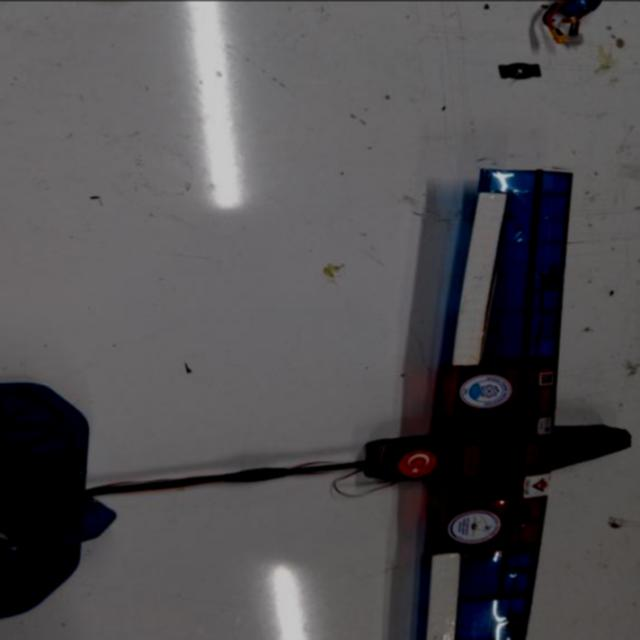plane: (0, 167, 632, 640)
